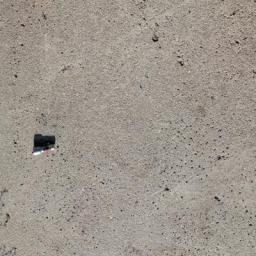FOD: (32, 130, 58, 162)
